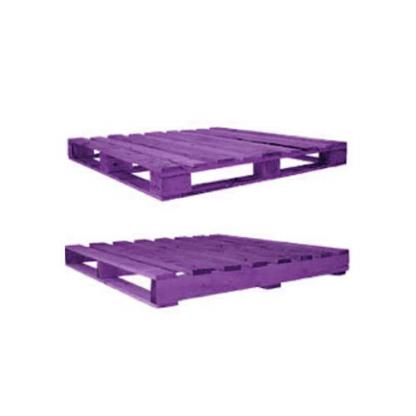BoxFace: (60, 229, 353, 311), (66, 124, 352, 203)
